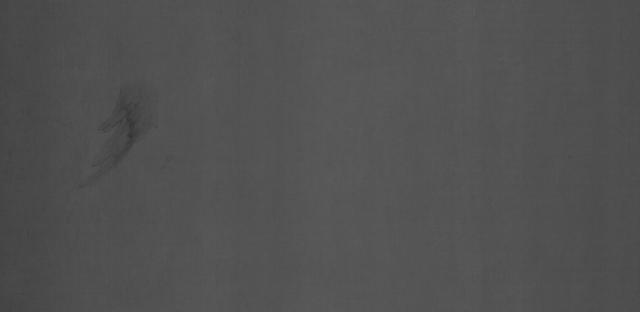water_spot: (76, 76, 170, 201)
